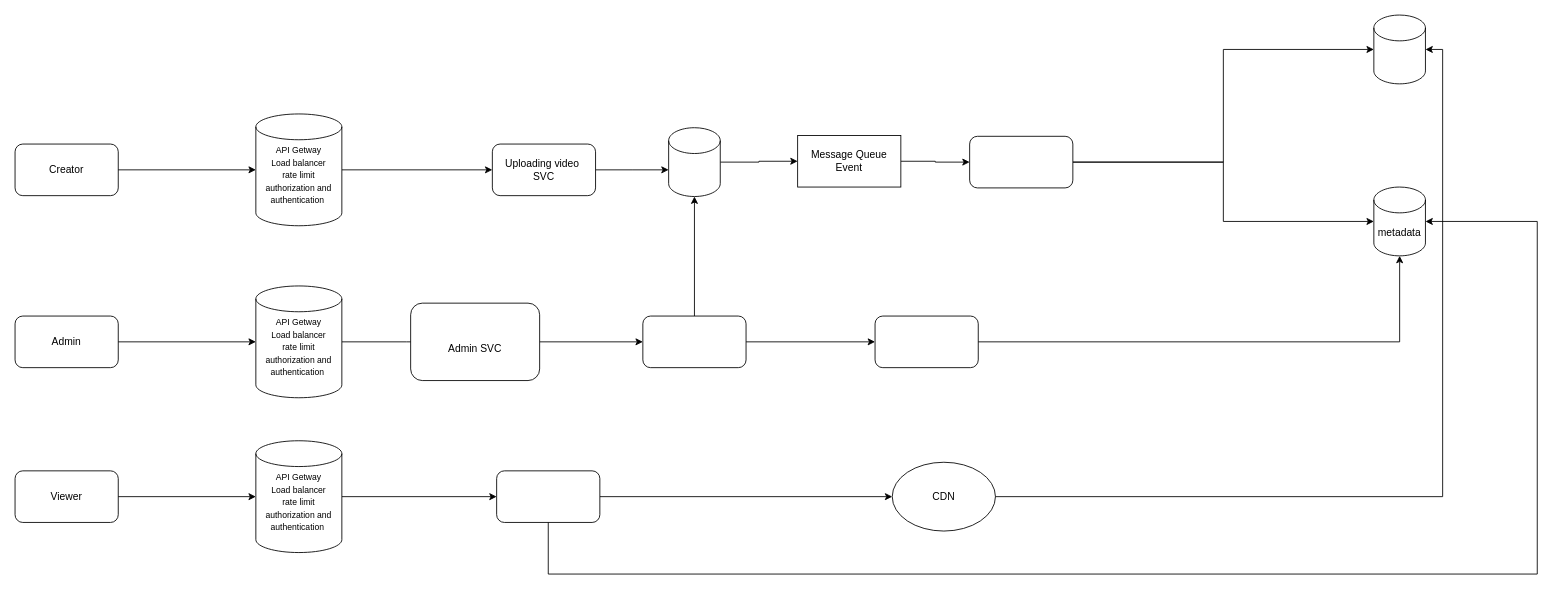
The diagram is 1559 pixels wide and 596 high, and some of its shapes have lost their labels. The centre of each missing label's shape, as x and y in pixels:
"AI Check SVC" goes at (x=694, y=341).
"object storeg (s3)" goes at (x=1399, y=49).
"pre-url object storeg (s3)" goes at (x=694, y=162).
"trancoding" goes at (x=1021, y=161).
"Update statue (Vaild / Not Vaild)" goes at (x=926, y=341).
"Watching video & SVC" goes at (x=548, y=496).
